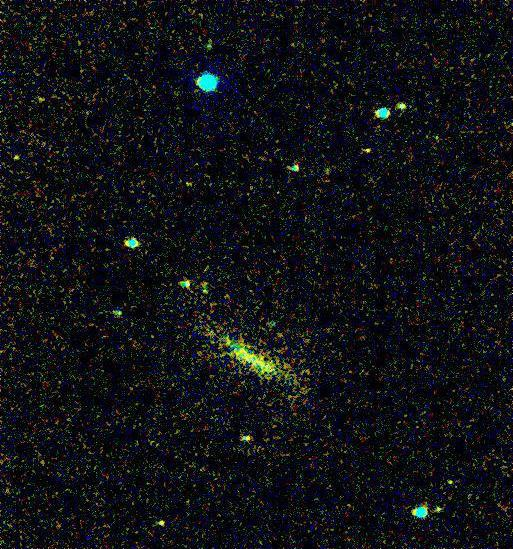star: (145, 509, 175, 539)
